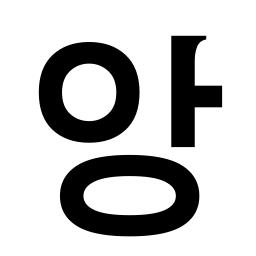Gaji: (153, 72, 212, 123)
